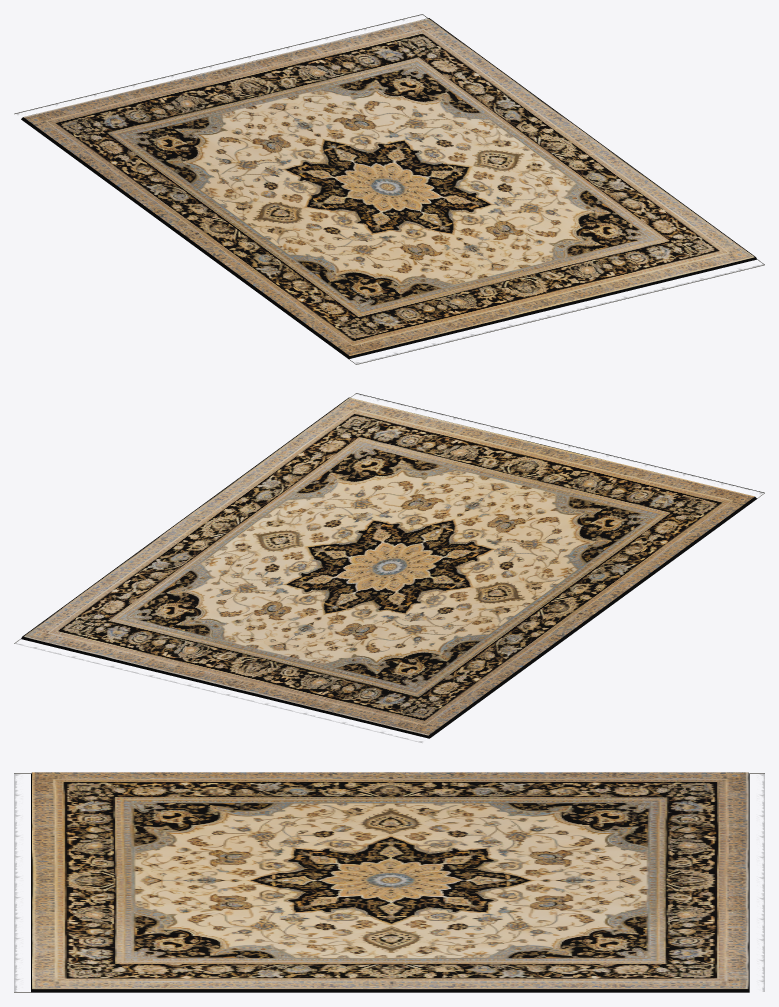
Rendered from rug_with_tassles.glb.
3 views of the same model, one above another, from view 1: azimuth 30°, elevation 25°; view 2: azimuth 150°, elevation 25°; view 3: azimuth 270°, elevation 25° (orthographic). The views are drawn at different scales.
Parts seen in each view (by area): view 1: Floor.001_0; view 2: Floor.001_0; view 3: Floor.001_0.
Boxes of the visible parts, <box> form: Floor.001_0: <box>14,14,764,364</box>; Floor.001_0: <box>14,393,764,742</box>; Floor.001_0: <box>14,772,764,992</box>.
Bounding box in the file's own units: 2.54 × 0.0141 × 3.69.
Materials: 3 (2 with a texture image).
